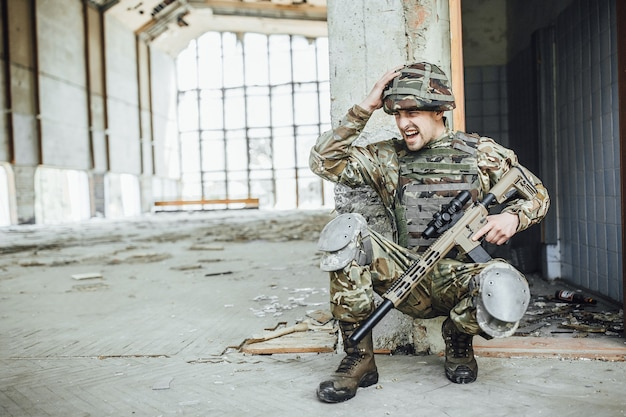gun: (349, 161, 538, 344)
